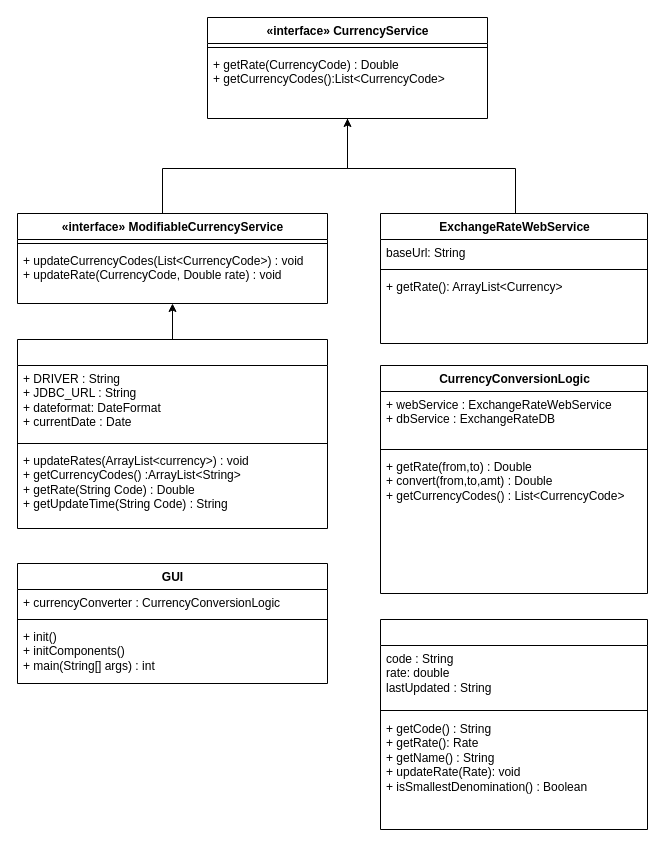
Some shapes in this 665 by 847 pixel diagram are drawn without their labels. Each missing label, with the box of its shape:
Currency: (380, 618, 648, 830)
ExchangeRateDB: (16, 338, 328, 528)
